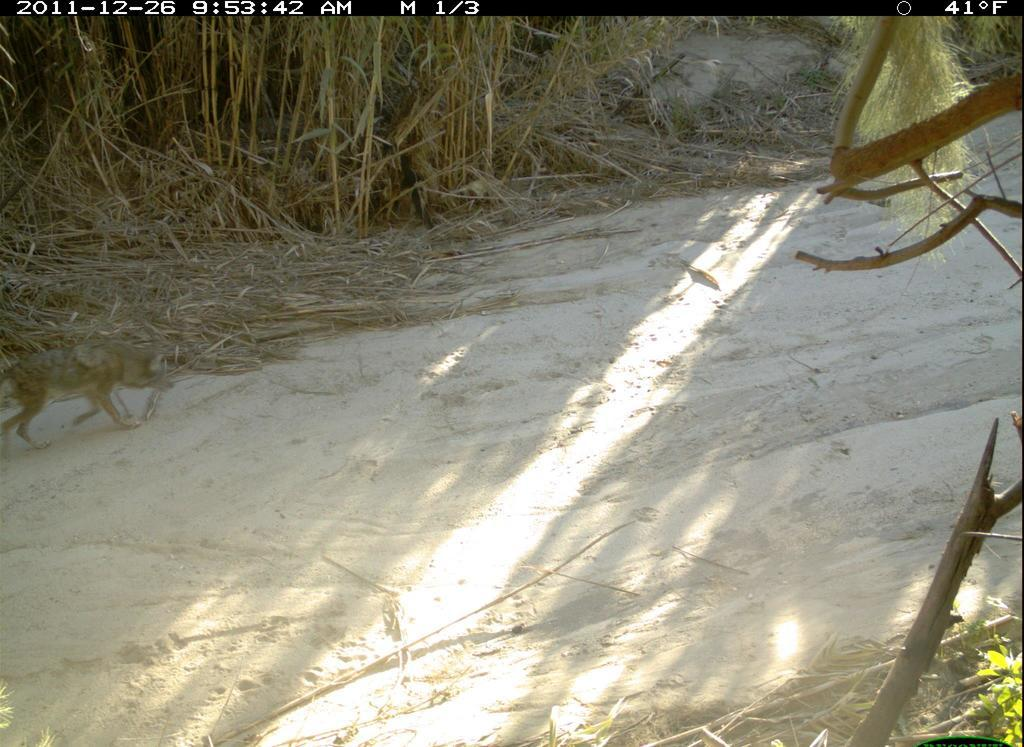coyote: (1, 331, 194, 457)
